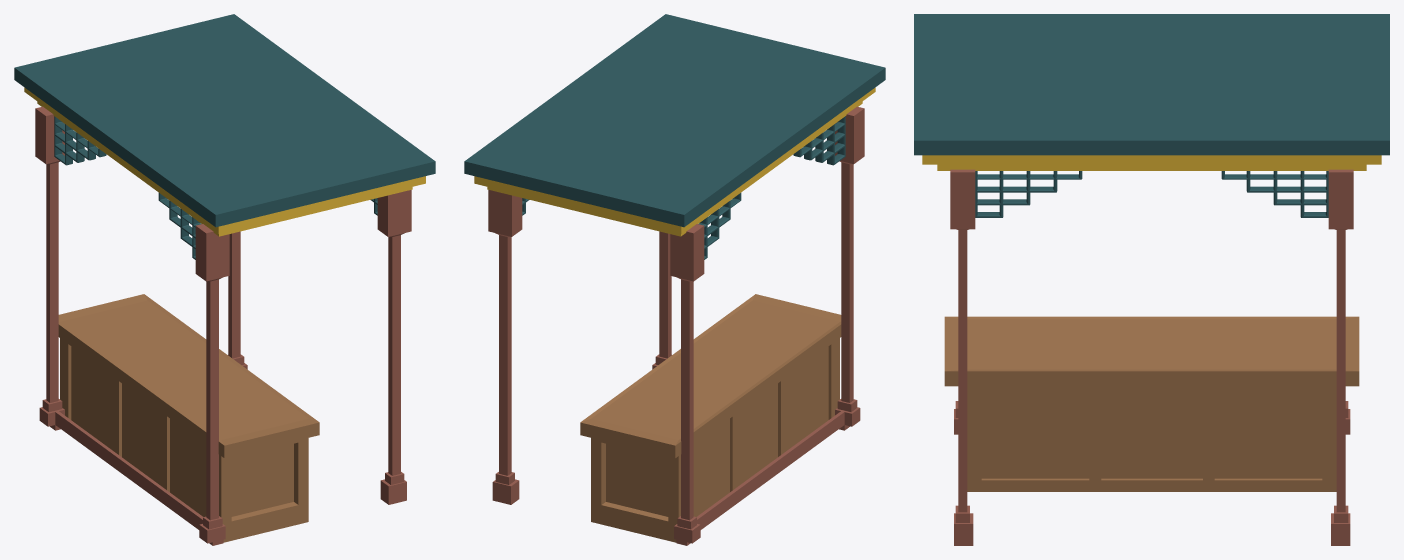
The model's file is Booth2.2.fbx.
3 renders of one model, left to right at view 1: azimuth 30°, elevation 25°; view 2: azimuth 150°, elevation 25°; view 3: azimuth 270°, elevation 25°, orthographic. The views are drawn at different scales.
Parts seen in each view (by area): view 1: Cube.001, body, Cube, body1, Cube.007, Cube.006; view 2: Cube.001, body, Cube, body1, Cube.007, Cube.006; view 3: Cube.001, body, Cube, Cube.007, Cube.006, body1.
Boxes of the visible parts, box(x1,y1,x2,y2) form: Cube.001: box(14, 14, 435, 227); body: box(58, 294, 319, 542); Cube: box(35, 106, 411, 529); body1: box(39, 363, 406, 545); Cube.007: box(24, 87, 425, 236); Cube.006: box(54, 116, 377, 259); Cube.001: box(464, 14, 885, 227); body: box(580, 294, 841, 542); Cube: box(488, 106, 864, 529); body1: box(492, 363, 860, 545); Cube.007: box(474, 87, 875, 236); Cube.006: box(522, 116, 845, 259); Cube.001: box(914, 14, 1389, 155); body: box(944, 316, 1359, 491); Cube: box(950, 169, 1353, 522); Cube.007: box(922, 155, 1381, 170); Cube.006: box(975, 171, 1328, 217); body1: box(954, 409, 1350, 545).
Size of the model in its own units: 315 by 478 by 499.
